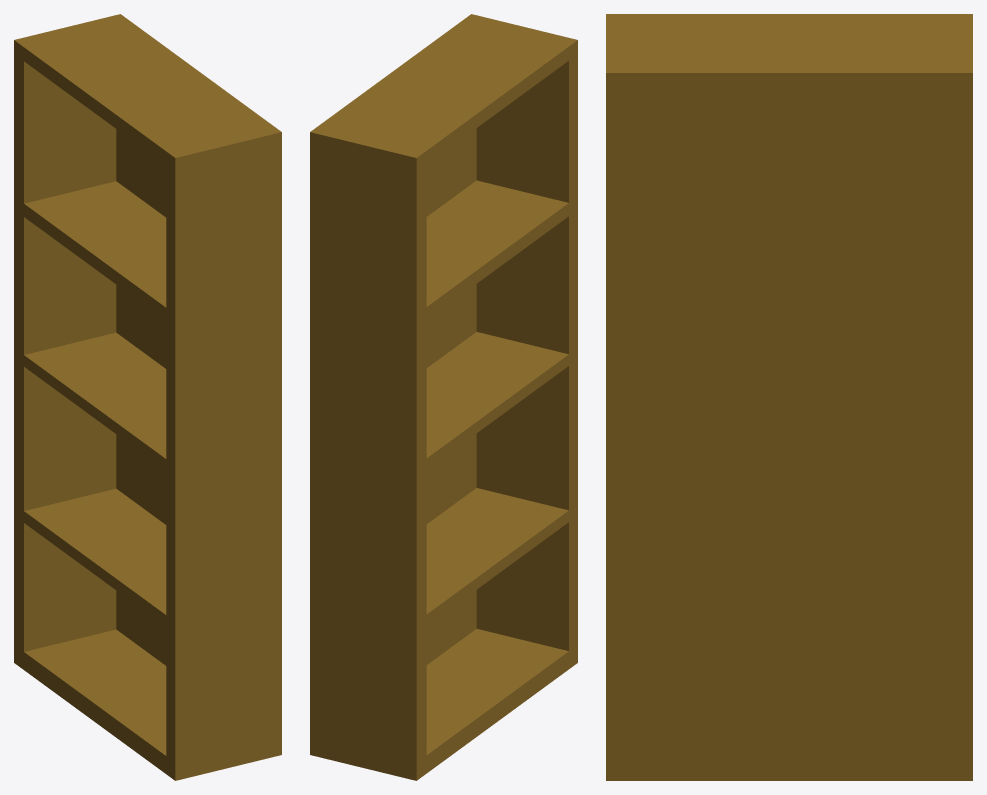
Rendered from Bookshelf3_Material.fbx.
3 views of the same model, side by side, from view 1: azimuth 30°, elevation 25°; view 2: azimuth 150°, elevation 25°; view 3: azimuth 270°, elevation 25° (orthographic). The views are drawn at different scales.
Visible parts, largest first — view 1: Bookshelf2; view 2: Bookshelf2; view 3: Bookshelf2.
Boxes of the visible parts, <box> form: Bookshelf2: <box>14,14,281,780</box>; Bookshelf2: <box>310,14,577,780</box>; Bookshelf2: <box>606,14,972,780</box>.
Bounding box in the file's own units: 21.44 × 120 × 56.24.
